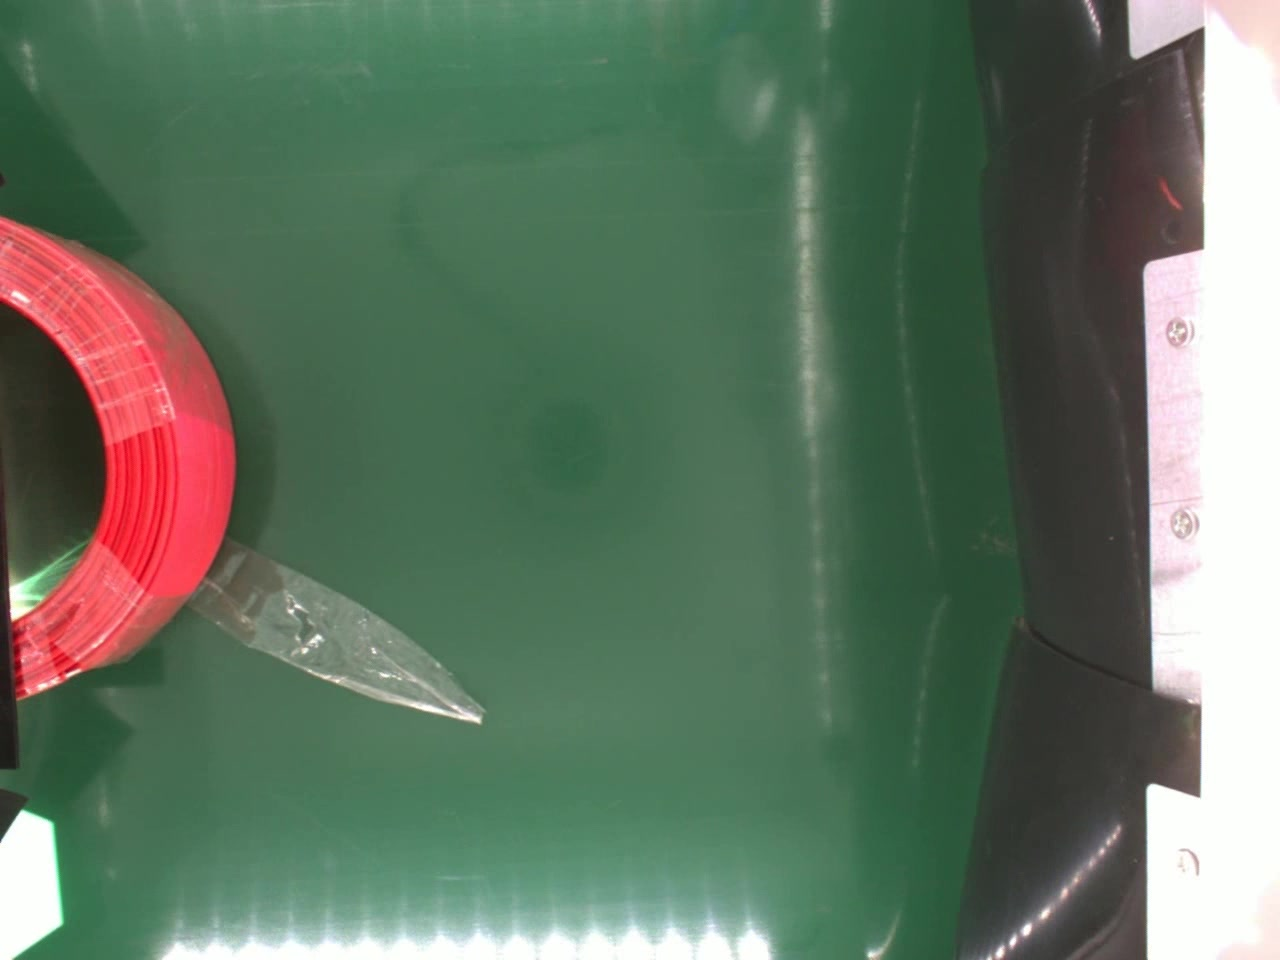red: (0, 211, 238, 699)
